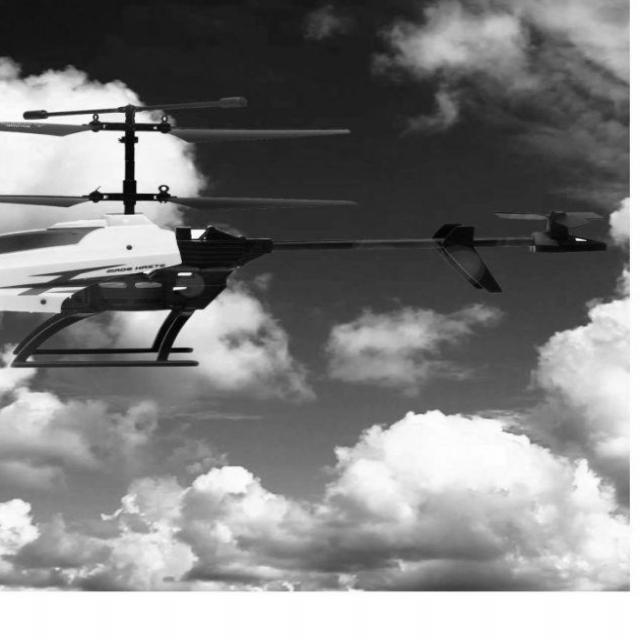helicopter: (1, 92, 614, 380)
